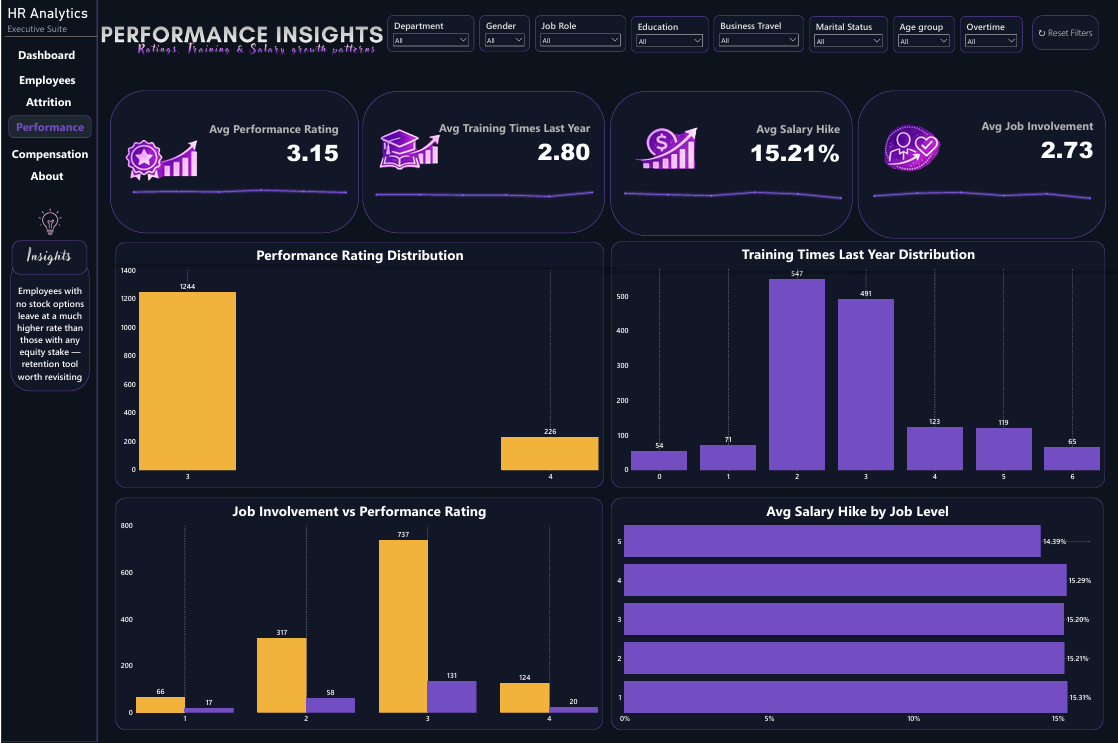

The page's visual inventory and layout, read from the dashboard file:
{"tool":"powerbi","page":{"name":"Performance","canvas":[3300,2200],"ordinal":3},"visuals":[{"type":"shape","box":[0,-2,284,2196],"z":0,"group":"g1"},{"type":"image","box":[287,44,845,150],"z":0},{"type":"actionButton","box":[19,267.2,243,67],"z":1000},{"type":"shape","box":[2532.4,269.6,732.4,437.8],"z":1000,"group":"g1"},{"type":"group","id":"g1","title":"Group 2","box":[0,-2,3264.9,2196],"z":2000},{"type":"shape","box":[1800,272.3,716.2,427],"z":2000,"group":"g1"},{"type":"shape","box":[1067.6,272.3,716.2,418.9],"z":3000,"group":"g1"},{"type":"actionButton","box":[22.2,343.7,244.4,66.7],"z":3000},{"type":"shape","box":[321.6,269.6,735.1,421.6],"z":4000,"group":"g1"},{"type":"clusteredBarChart","title":"Avg Salary Hike by Job Level","fields":{"Category":["HR.JobLevel"],"Y":["Measures (2).Avg Salary Hike"]},"box":[1802.7,1473,1454.1,686.5],"z":4000},{"type":"cardVisual","fields":{"Data":["Measures (2).Avg Performance Rating"]},"box":[351.4,226.3,675.7,405.4],"z":5000,"group":"g1"},{"type":"deneb7E15AEF80B9E4D4F8E12924291ECE89A","fields":{"dataset":["HR.TenureBucket","Measures (2).Avg Performance Rating"]},"box":[319,536,781,260],"z":5000},{"type":"cardVisual","fields":{"Data":["Measures (2).Avg Training Times"]},"box":[1210,226,560,400],"z":6000,"group":"g1"},{"type":"deneb7E15AEF80B9E4D4F8E12924291ECE89A","fields":{"dataset":["HR.TenureBucket","Measures (2).Avg Training Times"]},"box":[1035,547,794,260],"z":6000},{"type":"cardVisual","fields":{"Data":["Measures (2).Avg Salary Hike"]},"box":[1929.7,204.7,578.4,445.9],"z":7000,"group":"g1"},{"type":"deneb7E15AEF80B9E4D4F8E12924291ECE89A","fields":{"dataset":["HR.TenureBucket","Measures (2).Avg Salary Hike"]},"box":[1770,547,794,271],"z":7000},{"type":"cardVisual","fields":{"Data":["Measures (2).Avg Job Involvement"]},"box":[2543.2,202,713.5,437.8],"z":8000,"group":"g1"},{"type":"deneb7E15AEF80B9E4D4F8E12924291ECE89A","fields":{"dataset":["HR.TenureBucket","Measures (2).Avg Job Involvement"]},"box":[2506,547,794,271],"z":8000},{"type":"actionButton","title":"↻ Reset Filters","box":[3047.5,47.5,195,102.5],"z":9000},{"type":"actionButton","box":[15,203,243,69],"z":9000,"group":"g1"},{"type":"image","box":[915,235,575,287.5],"z":10000},{"type":"actionButton","box":[19,270,243,67],"z":10000,"group":"g1"},{"type":"image","box":[1510.8,197.3,878.4,332.4],"z":11000},{"type":"actionButton","box":[16.2,407.4,256.8,94.6],"z":11000,"group":"g1"},{"type":"image","box":[2385,235,595,282.5],"z":12000},{"type":"actionButton","box":[13.5,480.4,243.2,78.4],"z":12000,"group":"g1"},{"type":"image","box":[195,158,554,488],"z":13000},{"type":"clusteredColumnChart","title":"Performance Rating Distribution","fields":{"Category":["HR.PerformanceRating"],"Y":["Measures (2).Total Employees"]},"box":[337.8,718.2,1443.2,724.3],"z":13000,"group":"g1"},{"type":"group","id":"g2","title":"Group 3","box":[1142,48,1876,110],"z":14000,"group":"g1"},{"type":"clusteredColumnChart","title":"Job Involvement vs Performance Rating","fields":{"Category":["HR.JobInvolvement"],"Series":["HR.PerformanceRating"],"Y":["CountNonNull(HR.EmployeeNumber)"]},"box":[337.8,1473,1440.5,686.5],"z":14000},{"type":"image","box":[67.1,662.9,150,192.9],"z":15000},{"type":"clusteredColumnChart","title":"Training Times Last Year Distribution","fields":{"Category":["HR.TrainingTimesLastYear"],"Y":["Measures (2).Total Employees"]},"box":[1802.7,715.5,1459.5,727],"z":15000,"group":"g1"},{"type":"shape","box":[27.8,763.1,233.3,394.4],"z":16000,"group":"g1"},{"type":"slicer","fields":{"Values":["HR.BusinessTravel"]},"box":[2106,48,266,108],"z":17000,"group":"g2"},{"type":"textbox","box":[36.1,838.1,216.7,319.4],"z":17000,"group":"g1"},{"type":"slicer","fields":{"Values":["HR.Department"]},"box":[1142,48,256,108],"z":18000,"group":"g2"},{"type":"group","id":"g3","title":"Group 1","box":[32.4,712.8,221.6,100],"z":18000,"group":"g1"},{"type":"slicer","fields":{"Values":["HR.Gender"]},"box":[1414,48,148,106],"z":19000,"group":"g2"},{"type":"image","box":[2.8,532.6,283.3,266.7],"z":19000,"group":"g1"},{"type":"slicer","fields":{"Values":["HR.JobRole"]},"box":[1578,48,268,108],"z":20000,"group":"g2"},{"type":"textbox","title":"HR Analytics","box":[13.9,15.9,272.2,136.1],"z":21000,"group":"g1"},{"type":"slicer","fields":{"Values":["HR.EducationField"]},"box":[1862,50,228,108],"z":21000,"group":"g2"},{"type":"slicer","fields":{"Values":["HR.MaritalStatus"]},"box":[2388,50,232,108],"z":22000,"group":"g2"},{"type":"slicer","fields":{"Values":["HR.Age Group"]},"box":[2636,50,182,108],"z":23000,"group":"g2"},{"type":"actionButton","box":[13,132,243,62],"z":23500,"group":"g1"},{"type":"slicer","fields":{"Values":["HR.OverTime"]},"box":[2834,50,184,108],"z":24000,"group":"g2"},{"type":"shape","box":[32.4,712.8,221.6,100],"z":59000,"group":"g3"}]}

Visuals, with their boxes on the page's 3300x2200 design canvas (x1, y1, x2, y2). These are canvas units, not pixel positions in the 1118x743 screenshot, which may show the page scaled, cropped or inside an application window:
shape: (x1=0, y1=-2, x2=284, y2=2194)
image: (x1=287, y1=44, x2=1132, y2=194)
actionButton: (x1=19, y1=267, x2=262, y2=334)
shape: (x1=2532, y1=270, x2=3265, y2=707)
"Group 2" group: (x1=0, y1=-2, x2=3265, y2=2194)
shape: (x1=1800, y1=272, x2=2516, y2=699)
shape: (x1=1068, y1=272, x2=1784, y2=691)
actionButton: (x1=22, y1=344, x2=267, y2=410)
shape: (x1=322, y1=270, x2=1057, y2=691)
"Avg Salary Hike by Job Level" clusteredBarChart: (x1=1803, y1=1473, x2=3257, y2=2160)
cardVisual - Measures (2).Avg Performance Rating: (x1=351, y1=226, x2=1027, y2=632)
deneb7E15AEF80B9E4D4F8E12924291ECE89A - HR.TenureBucket x Measures (2).Avg Performance Rating: (x1=319, y1=536, x2=1100, y2=796)
cardVisual - Measures (2).Avg Training Times: (x1=1210, y1=226, x2=1770, y2=626)
deneb7E15AEF80B9E4D4F8E12924291ECE89A - HR.TenureBucket x Measures (2).Avg Training Times: (x1=1035, y1=547, x2=1829, y2=807)
cardVisual - Measures (2).Avg Salary Hike: (x1=1930, y1=205, x2=2508, y2=651)
deneb7E15AEF80B9E4D4F8E12924291ECE89A - HR.TenureBucket x Measures (2).Avg Salary Hike: (x1=1770, y1=547, x2=2564, y2=818)
cardVisual - Measures (2).Avg Job Involvement: (x1=2543, y1=202, x2=3257, y2=640)
deneb7E15AEF80B9E4D4F8E12924291ECE89A - HR.TenureBucket x Measures (2).Avg Job Involvement: (x1=2506, y1=547, x2=3300, y2=818)
"↻ Reset Filters" actionButton: (x1=3048, y1=48, x2=3242, y2=150)
actionButton: (x1=15, y1=203, x2=258, y2=272)
image: (x1=915, y1=235, x2=1490, y2=522)
actionButton: (x1=19, y1=270, x2=262, y2=337)
image: (x1=1511, y1=197, x2=2389, y2=530)
actionButton: (x1=16, y1=407, x2=273, y2=502)
image: (x1=2385, y1=235, x2=2980, y2=518)
actionButton: (x1=14, y1=480, x2=257, y2=559)
image: (x1=195, y1=158, x2=749, y2=646)
"Performance Rating Distribution" clusteredColumnChart: (x1=338, y1=718, x2=1781, y2=1442)
"Group 3" group: (x1=1142, y1=48, x2=3018, y2=158)
"Job Involvement vs Performance Rating" clusteredColumnChart: (x1=338, y1=1473, x2=1778, y2=2160)
image: (x1=67, y1=663, x2=217, y2=856)
"Training Times Last Year Distribution" clusteredColumnChart: (x1=1803, y1=716, x2=3262, y2=1442)
shape: (x1=28, y1=763, x2=261, y2=1158)
slicer - HR.BusinessTravel: (x1=2106, y1=48, x2=2372, y2=156)
textbox: (x1=36, y1=838, x2=253, y2=1158)
slicer - HR.Department: (x1=1142, y1=48, x2=1398, y2=156)
"Group 1" group: (x1=32, y1=713, x2=254, y2=813)
slicer - HR.Gender: (x1=1414, y1=48, x2=1562, y2=154)
image: (x1=3, y1=533, x2=286, y2=799)
slicer - HR.JobRole: (x1=1578, y1=48, x2=1846, y2=156)
"HR Analytics" textbox: (x1=14, y1=16, x2=286, y2=152)
slicer - HR.EducationField: (x1=1862, y1=50, x2=2090, y2=158)
slicer - HR.MaritalStatus: (x1=2388, y1=50, x2=2620, y2=158)
slicer - HR.Age Group: (x1=2636, y1=50, x2=2818, y2=158)
actionButton: (x1=13, y1=132, x2=256, y2=194)
slicer - HR.OverTime: (x1=2834, y1=50, x2=3018, y2=158)
shape: (x1=32, y1=713, x2=254, y2=813)
